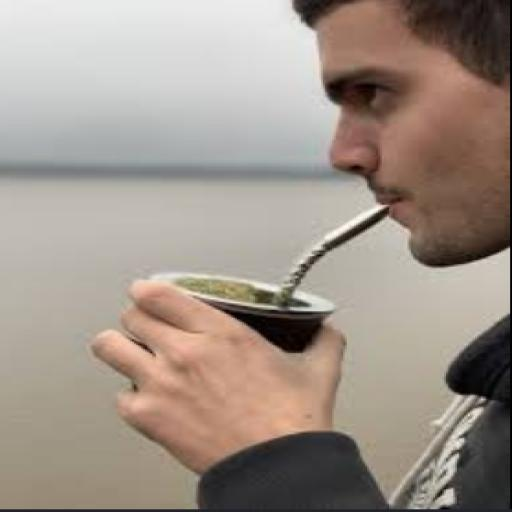mate: (150, 206, 385, 352)
